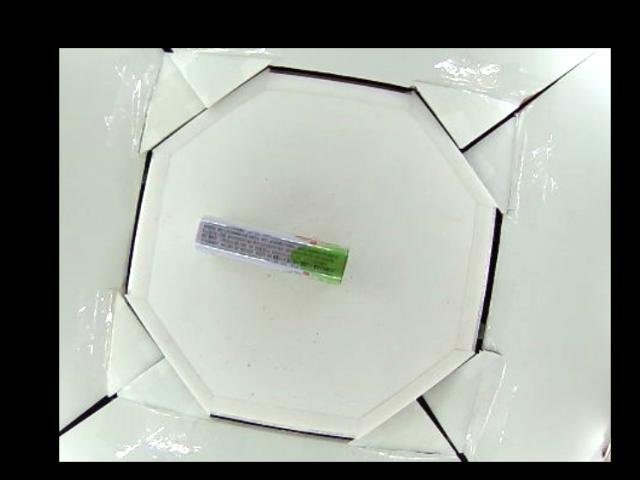Bottle: (191, 212, 351, 289)
